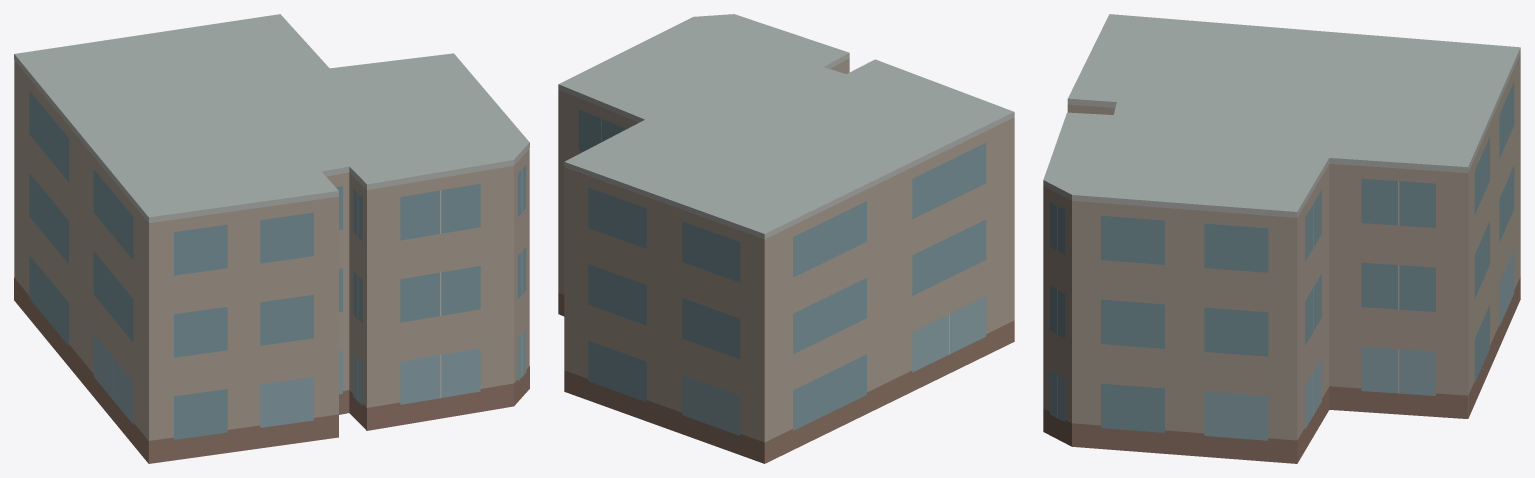
The model's file is survey-upis-32767755.glb.
3 renders of one model, left to right at view 1: azimuth 30°, elevation 25°; view 2: azimuth 150°, elevation 25°; view 3: azimuth 270°, elevation 25°, orthographic. The views are drawn at different scales.
Parts seen in each view (by area): view 1: survey-upis-32767755.tmp; view 2: survey-upis-32767755.tmp; view 3: survey-upis-32767755.tmp.
Boxes of the visible parts, x1,y1,x2,y2 form: survey-upis-32767755.tmp: [14, 14, 529, 463]; survey-upis-32767755.tmp: [558, 14, 1014, 463]; survey-upis-32767755.tmp: [1043, 14, 1520, 463].
Bounding box in the file's own units: 17.54 × 10.4 × 17.87.
